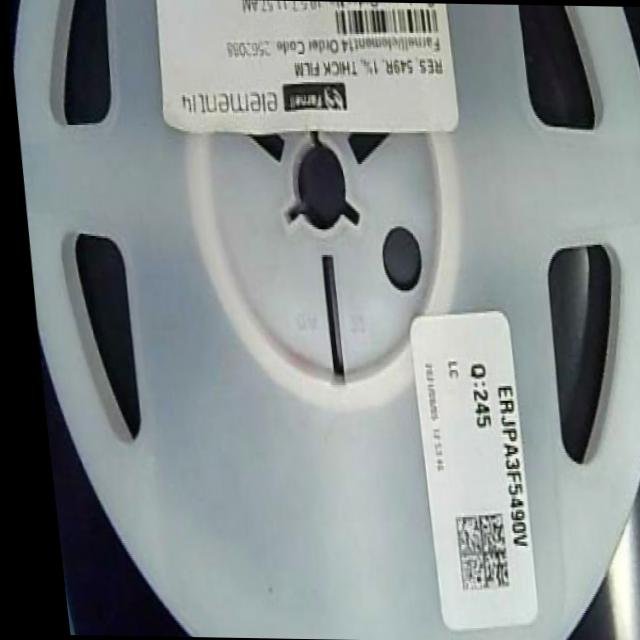datamatrix: (440, 511, 499, 591)
